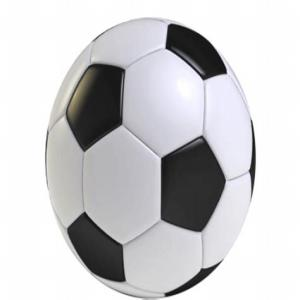Football: (41, 13, 257, 300)
